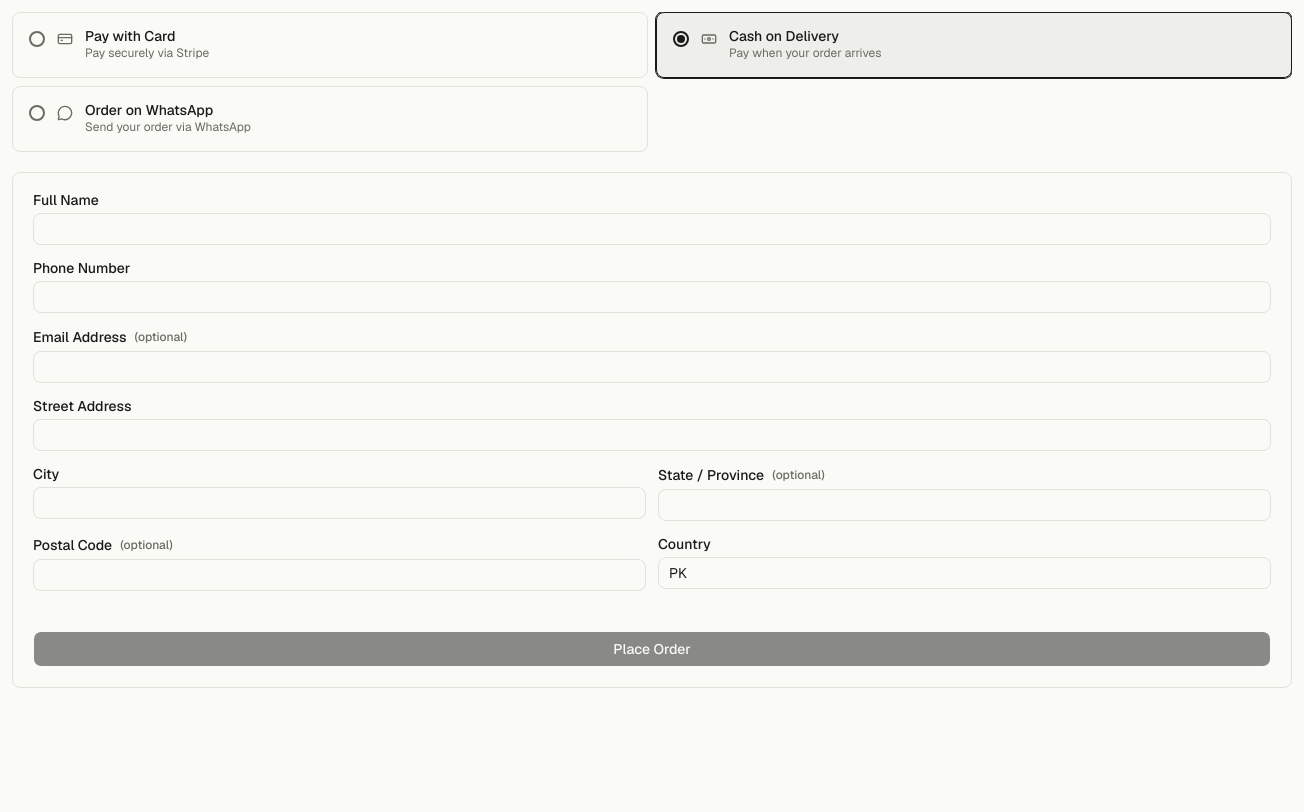
Test: CheckoutMethodSelector › switches to the card method and shows the stripe note
Click the text "Pay with Card" at (130,36), box [85, 27, 176, 45]
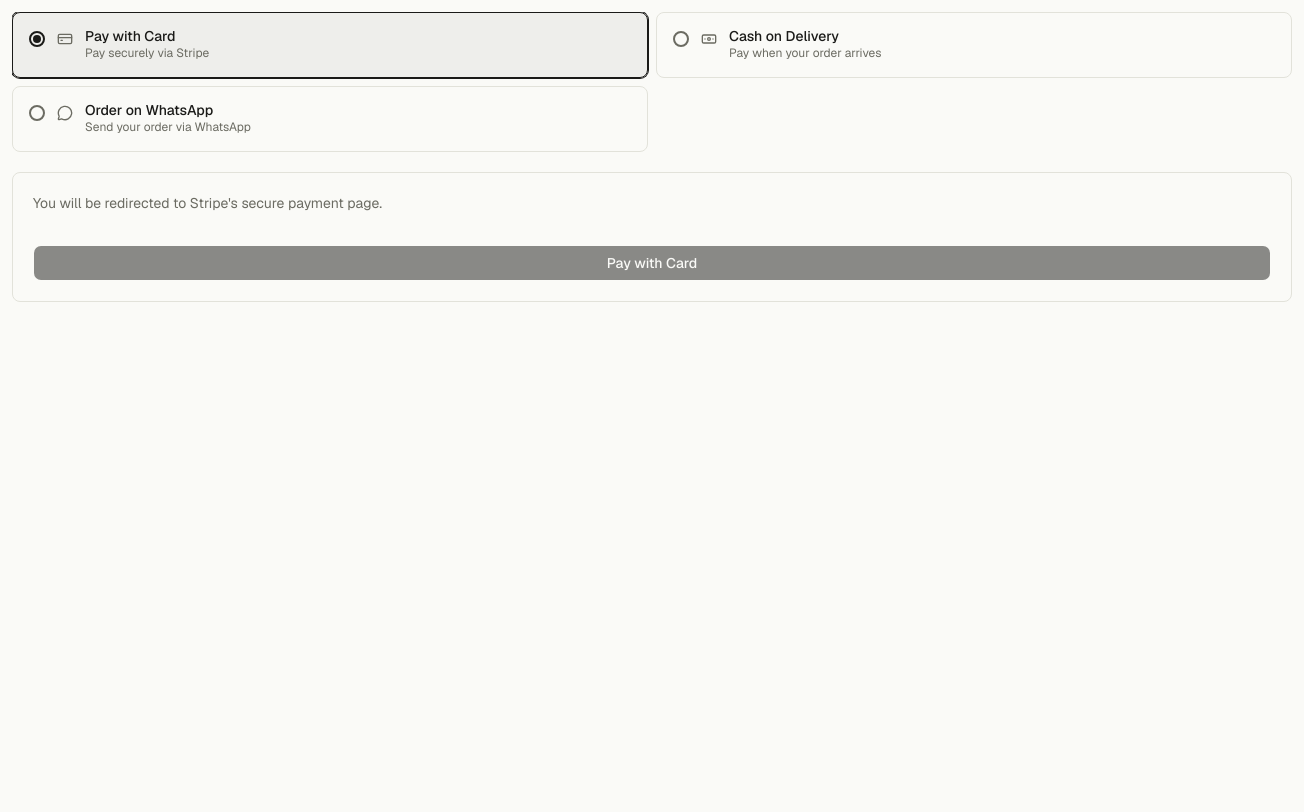
Expected: the text "You will be redirected to Stripe's secure payment page." is shown, [33, 194, 382, 212]
